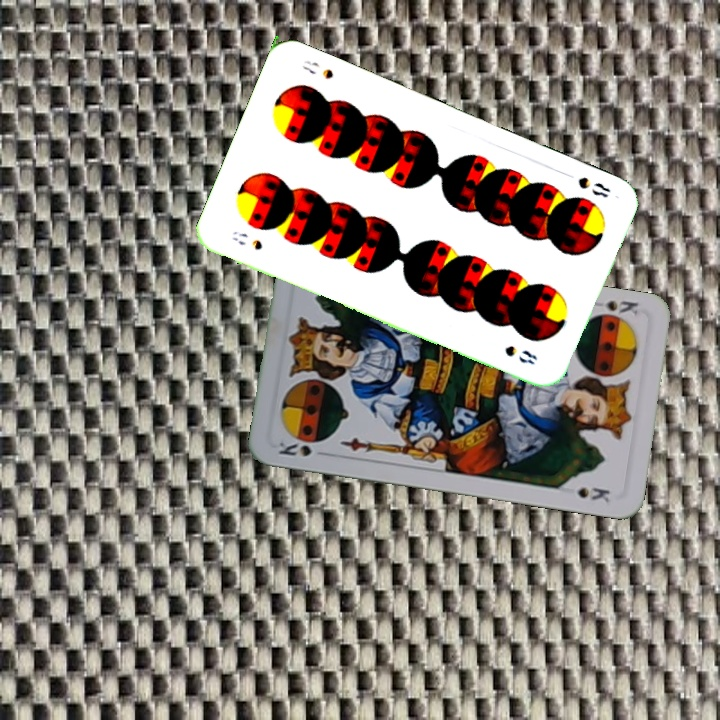S8: (573, 172, 613, 201), (229, 227, 265, 253)
SK: (587, 296, 641, 324), (274, 437, 314, 459)
